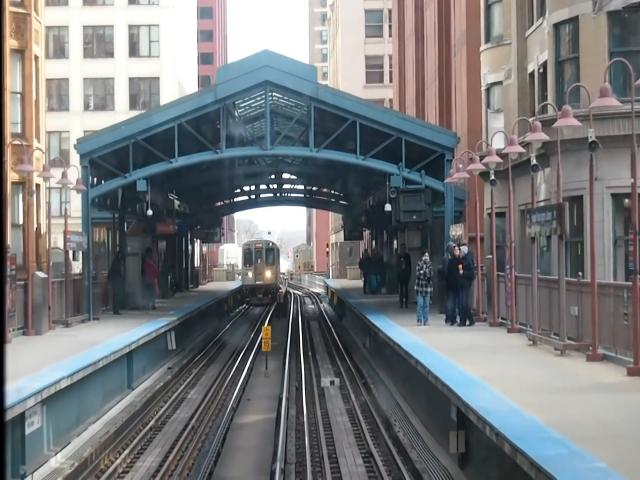signal light: (327, 244, 331, 261)
